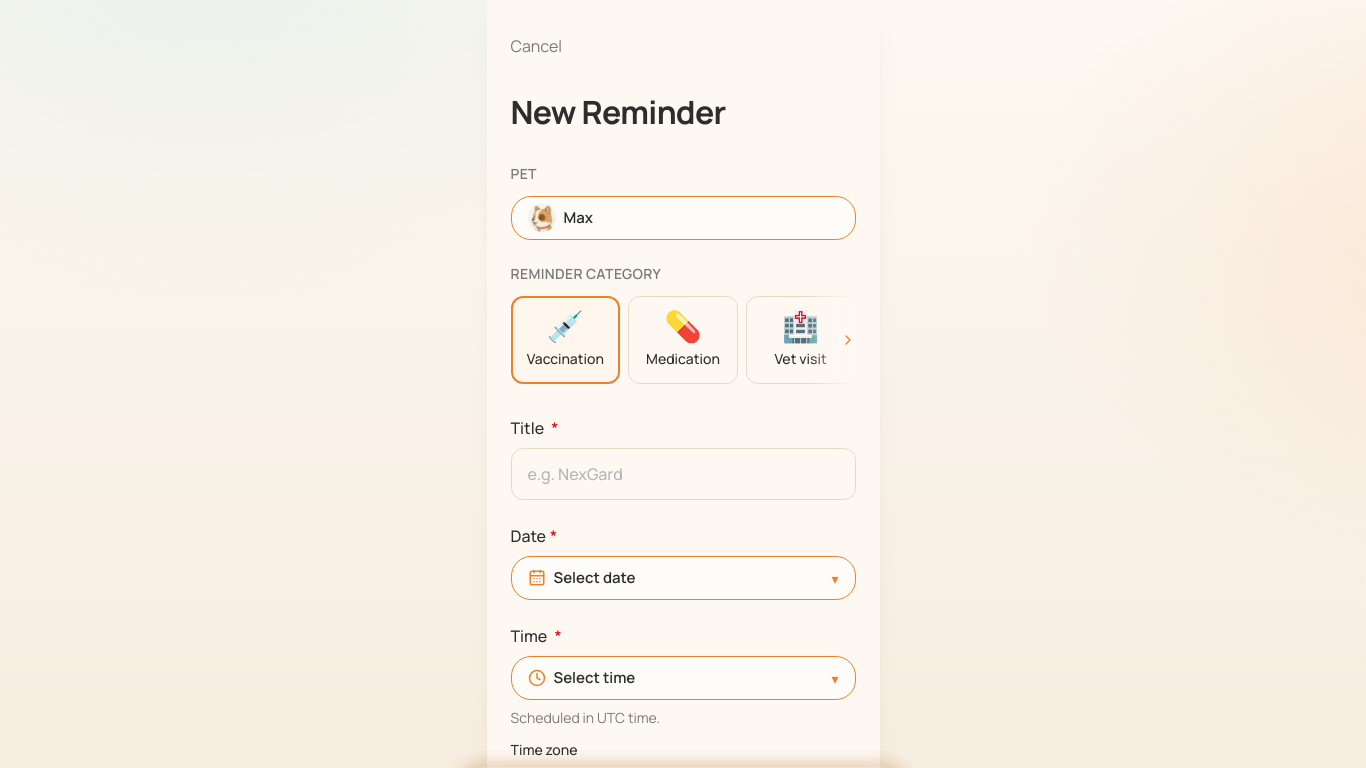
it: ReminderForm › keeps save disabled until required fields are valid
Type "Flea treatment" into the field labelled "Title *" at (683, 474), box [510,448,856,500]
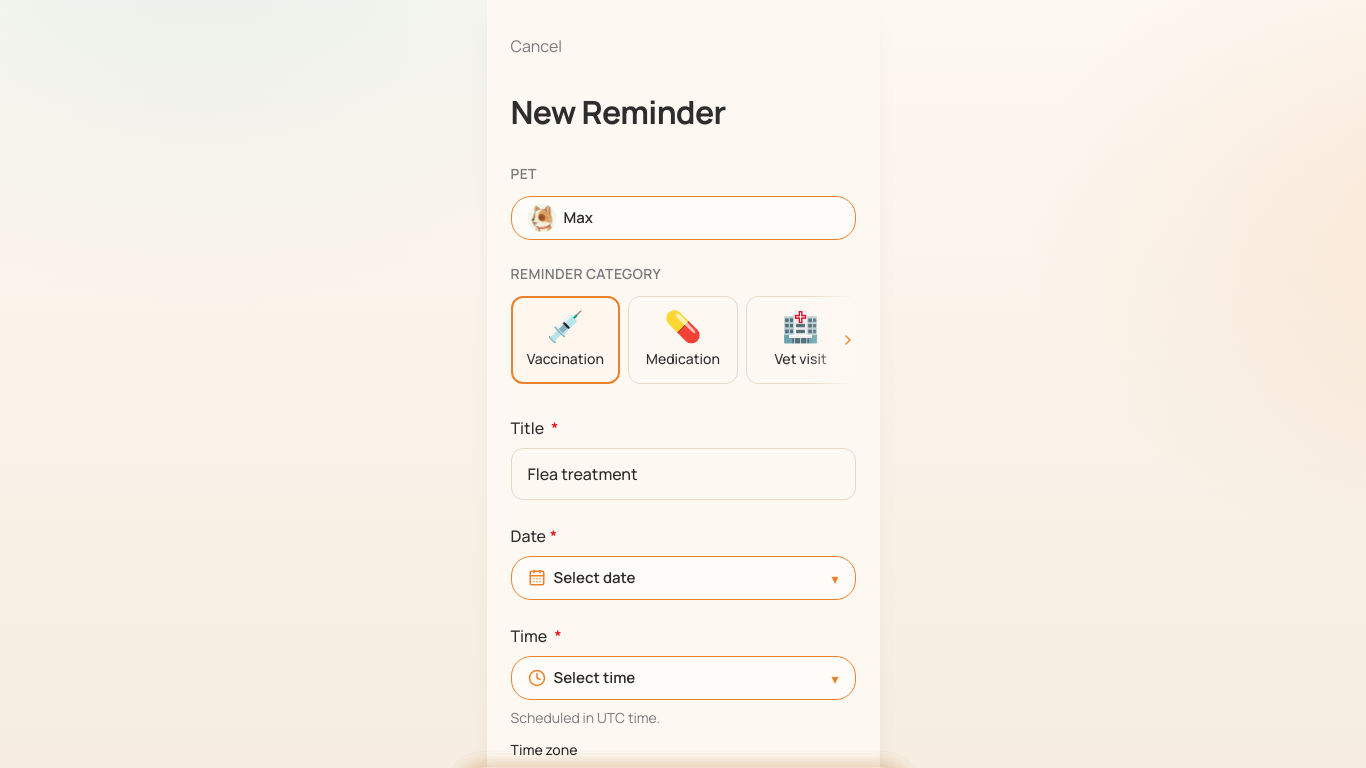
// Select date via DatePicker: open sheet → click day → confirm
Click the button with aria-label "Date: Select date. Tap to change." at (594, 577), box [510,556,856,600]
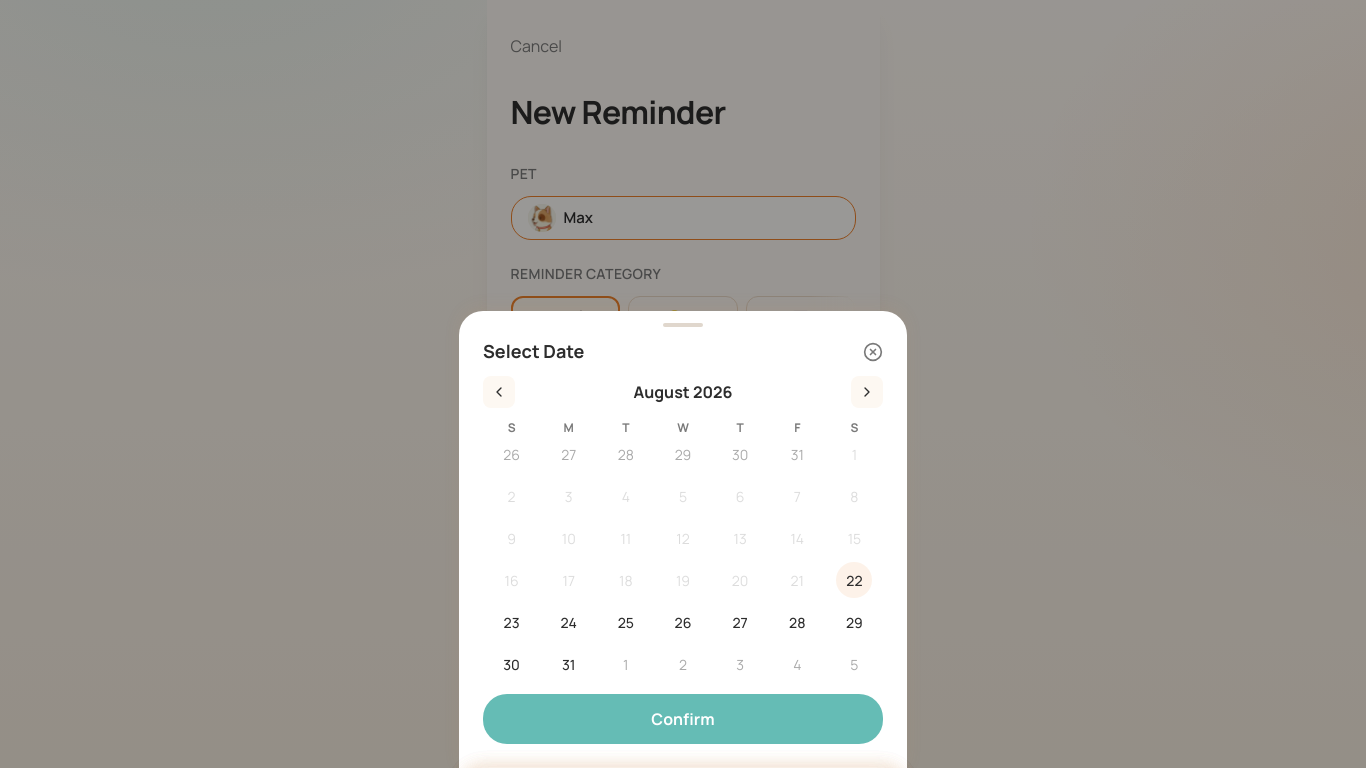
Click the button named "22 August 2026" at (854, 580), box [836,562,872,598]
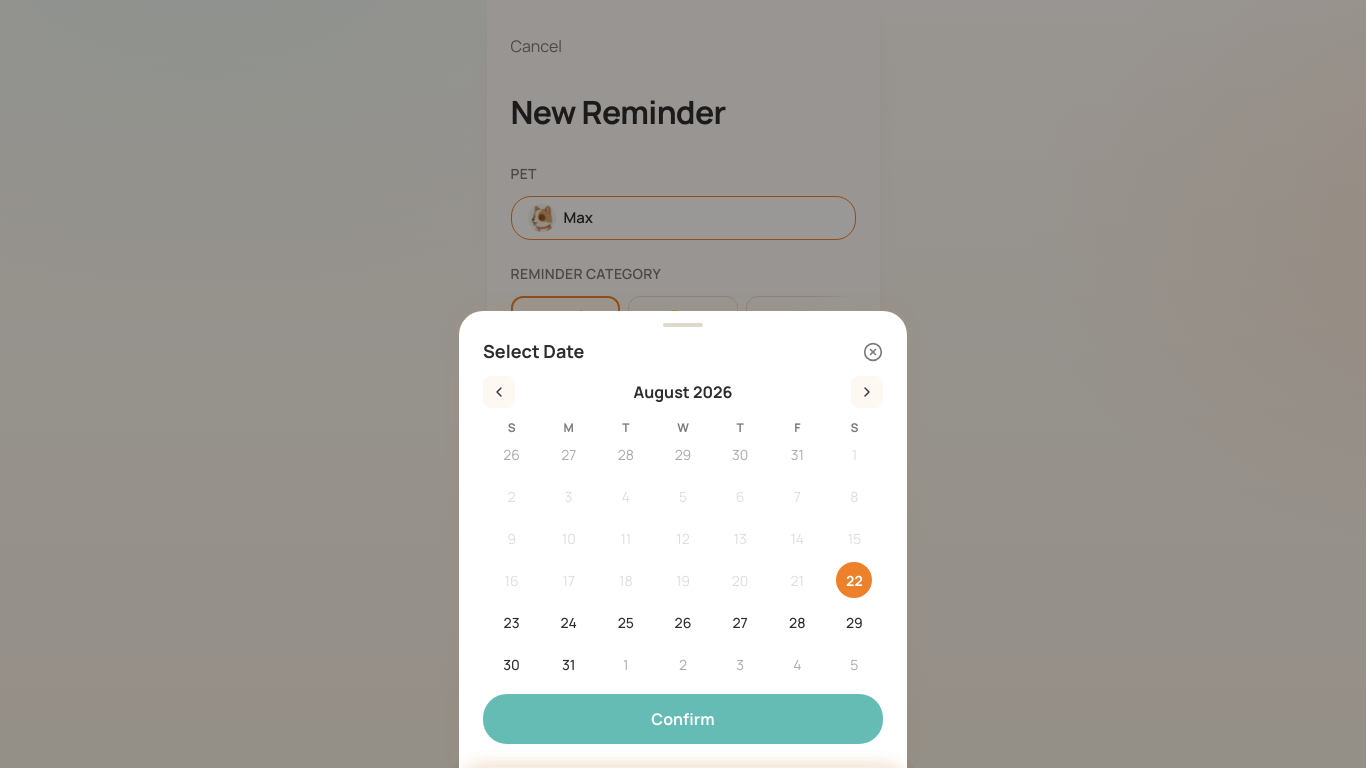
Click the button "Confirm" at (683, 719), box [483,694,883,744]
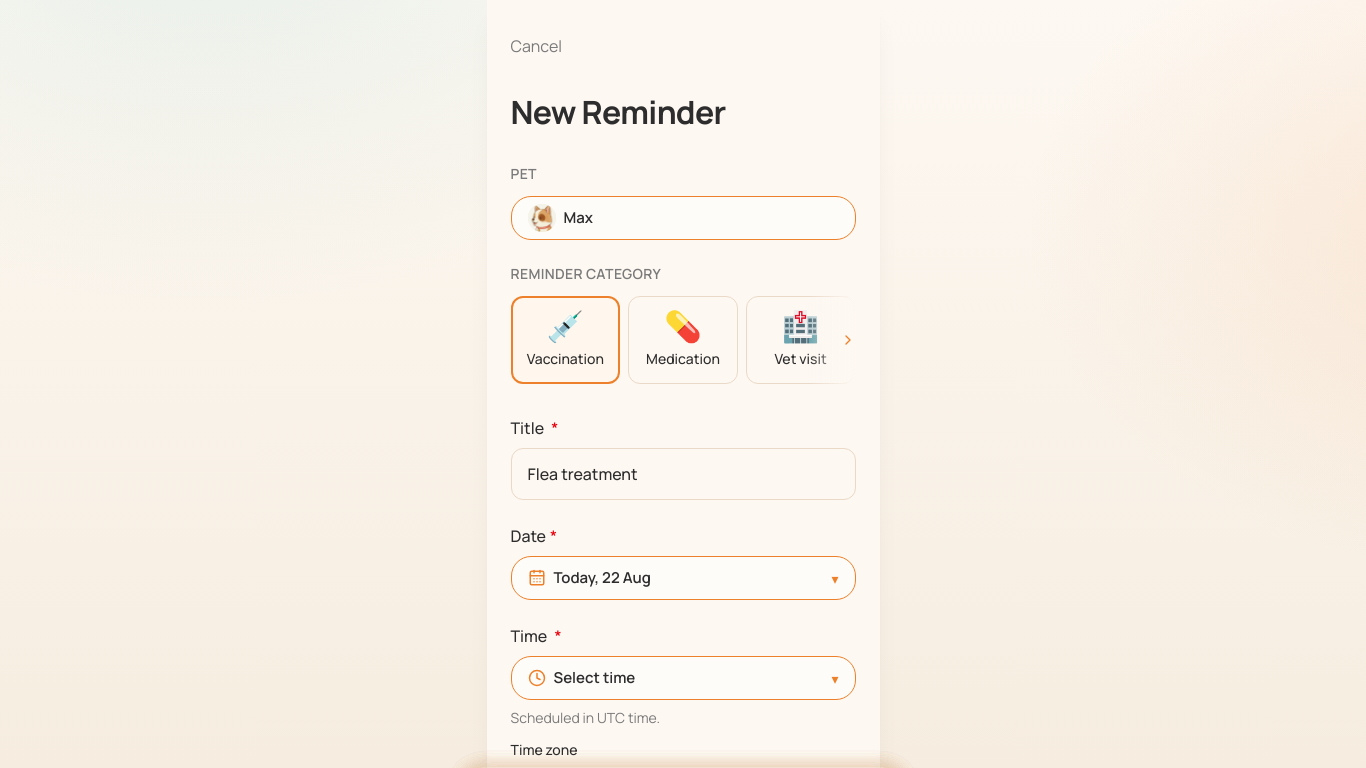
// Set time via the native hidden input (NativePickerField)
Replace the text in the time field with test id "reminder-time-input" with "19:00" at (683, 678), box [510,656,856,700]
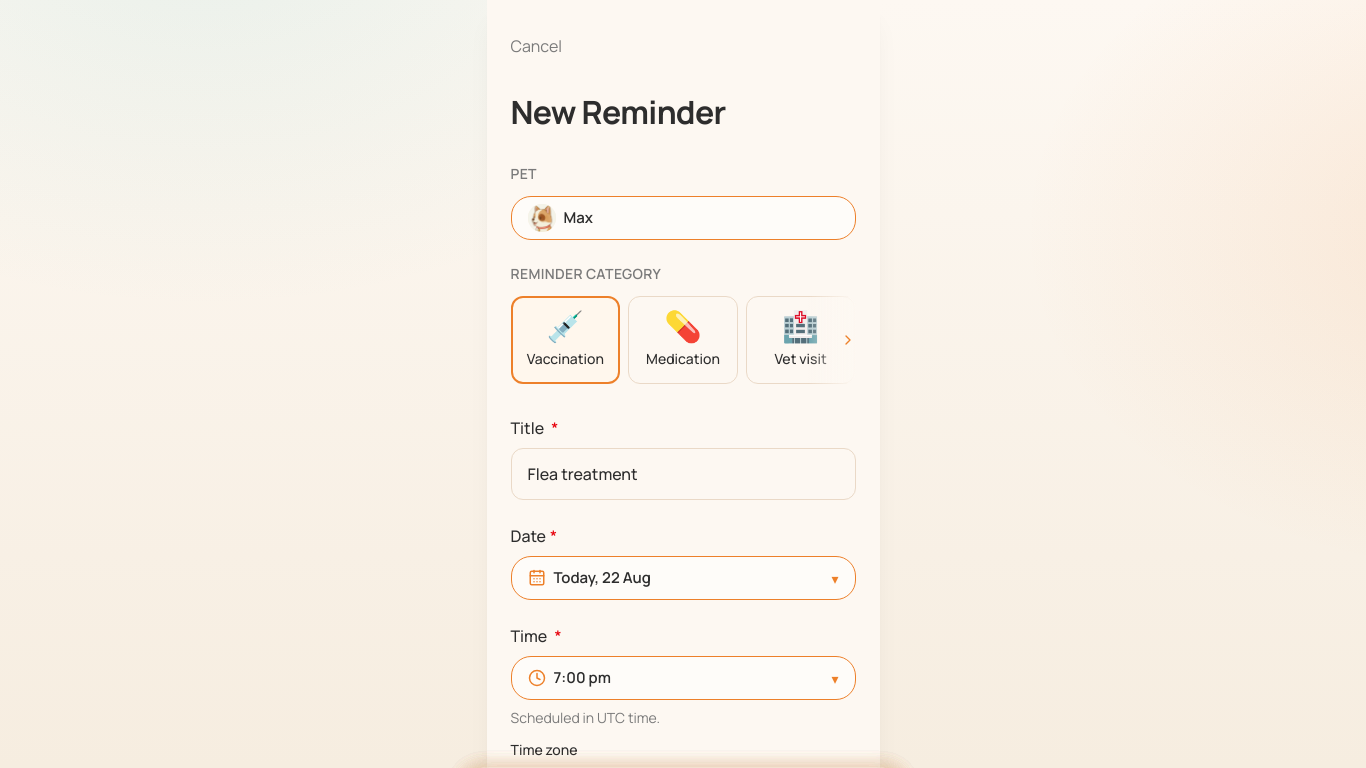
Now the button with aria-label "Date: Today, 22 Aug. Tap to change." is shown, box [510,556,856,600]
Now the button with aria-label "Time: 7:00 pm" is shown, box [510,656,856,700]
